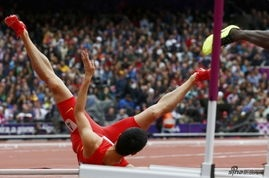falling: (16, 20, 203, 158)
